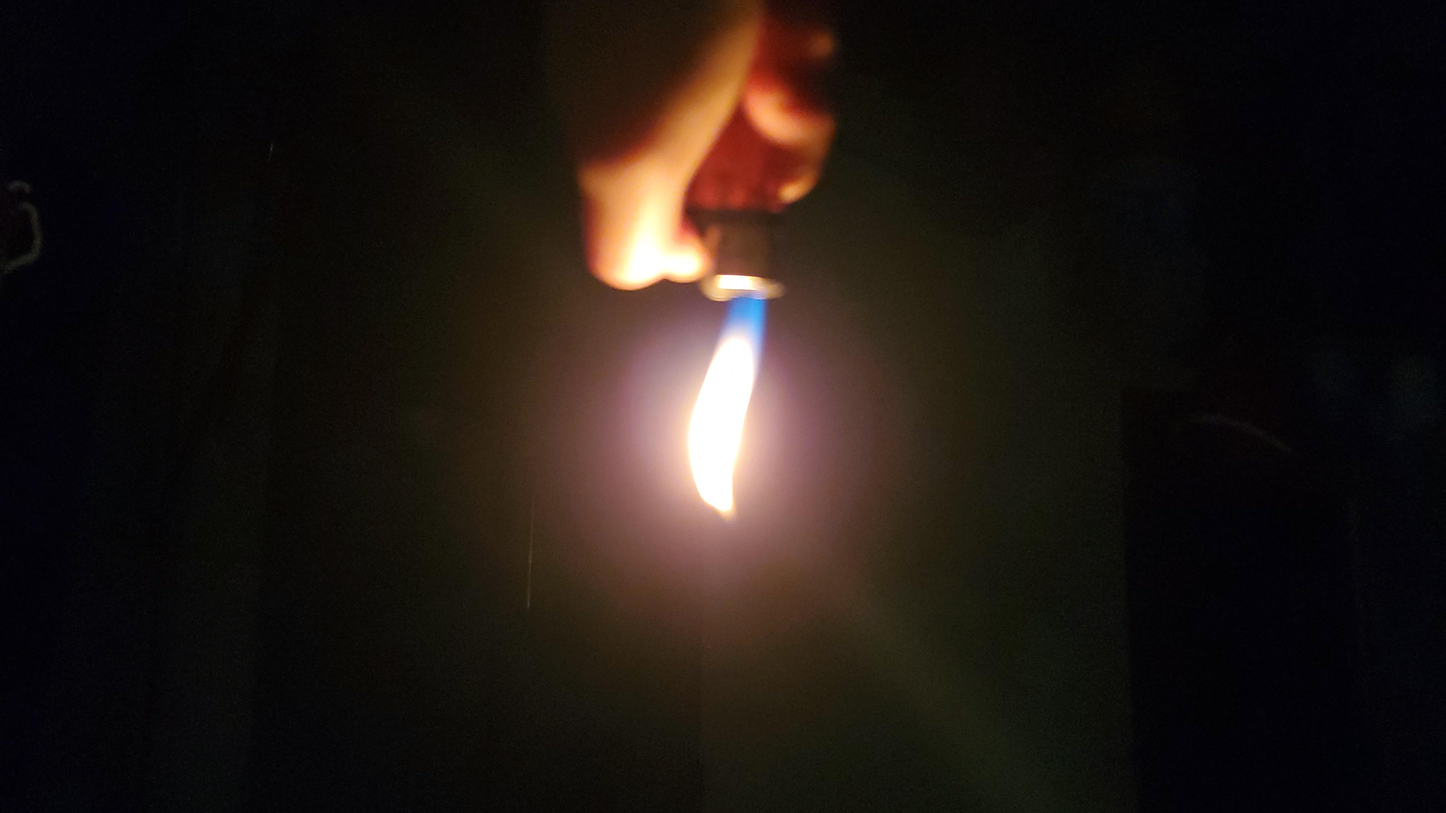fire: (687, 293, 813, 535)
